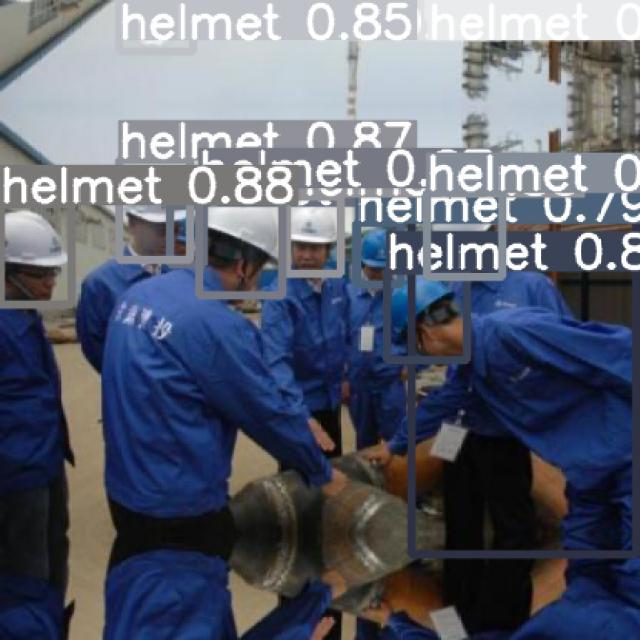Helmet: (3, 209, 67, 268)
